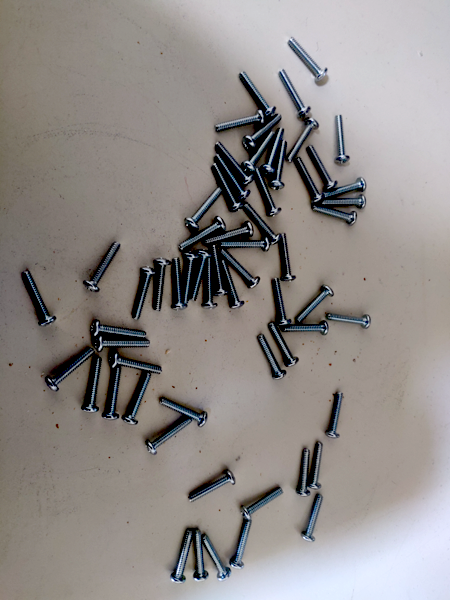longscrew: (84, 239, 122, 295), (46, 350, 96, 391), (22, 269, 53, 329), (237, 486, 286, 522), (148, 414, 191, 455), (288, 36, 327, 81), (188, 471, 238, 506), (239, 69, 275, 117), (205, 167, 242, 211), (184, 186, 220, 231), (217, 140, 253, 184), (216, 155, 252, 199), (163, 394, 209, 428), (247, 201, 279, 249), (287, 116, 320, 162), (165, 532, 193, 586), (280, 69, 313, 114), (124, 374, 152, 427), (79, 357, 104, 415), (96, 363, 121, 421), (180, 219, 227, 249), (224, 250, 260, 289), (243, 130, 275, 173), (203, 534, 230, 584), (259, 336, 288, 382), (254, 168, 281, 215), (299, 284, 334, 320), (244, 115, 282, 147), (297, 159, 325, 202), (307, 147, 337, 187), (271, 323, 299, 365), (303, 496, 327, 543), (230, 523, 254, 570), (215, 111, 264, 134), (225, 259, 245, 314), (203, 225, 253, 246), (91, 320, 146, 339), (110, 355, 165, 374), (180, 251, 199, 305), (189, 250, 208, 303), (171, 259, 190, 312), (153, 259, 172, 312), (134, 268, 153, 321), (96, 334, 151, 352), (262, 128, 283, 174), (268, 144, 289, 190), (324, 189, 367, 211), (316, 208, 359, 230), (326, 176, 368, 198), (287, 318, 330, 339), (330, 312, 372, 333), (274, 280, 291, 329), (203, 256, 217, 315), (337, 112, 352, 166), (278, 234, 294, 283), (328, 389, 344, 438), (309, 441, 325, 490), (294, 450, 310, 498), (214, 243, 227, 302), (195, 524, 205, 584)
